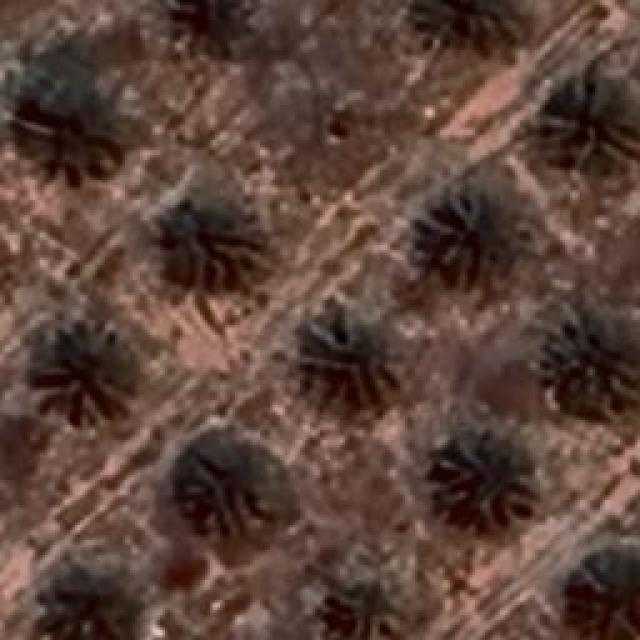PalmTree: (420, 188, 530, 290), (30, 322, 135, 420), (24, 72, 114, 186), (432, 430, 532, 528), (542, 310, 638, 410), (542, 70, 638, 168), (32, 555, 136, 640), (302, 312, 400, 398), (168, 205, 262, 280), (574, 544, 638, 638), (185, 450, 260, 525), (410, 0, 515, 52), (320, 574, 405, 638), (176, 0, 253, 62)
